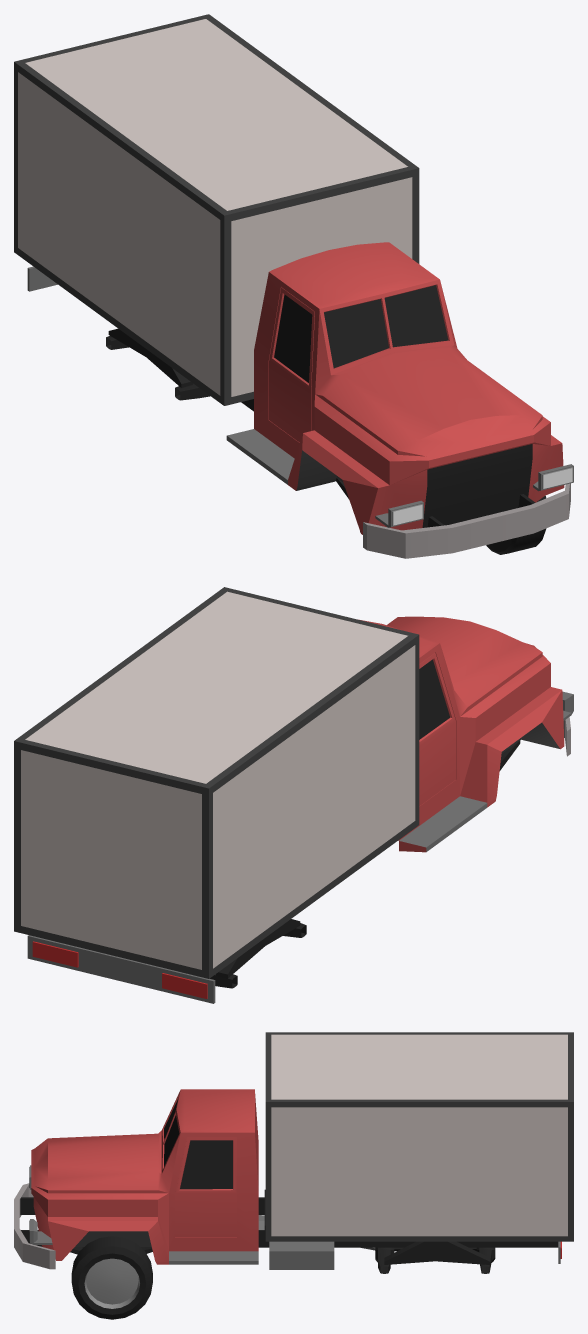
Rendered from Truck.fbx.
3 renders of one model, top to bottom at view 1: azimuth 30°, elevation 25°; view 2: azimuth 150°, elevation 25°; view 3: azimuth 270°, elevation 25°, orthographic. The views are drawn at different scales.
Parts seen in each view (by area): view 1: Truck Body, Wheel; view 2: Truck Body; view 3: Truck Body, Wheel.
Part boxes in pixels (x1,y1,x2,y2): Truck Body: [14, 14, 573, 558]; Wheel: [486, 495, 546, 554]; Truck Body: [14, 587, 573, 1003]; Truck Body: [14, 1032, 573, 1273]; Wheel: [71, 1236, 152, 1319].
Size of the model in its own units: 294 by 412 by 954.
